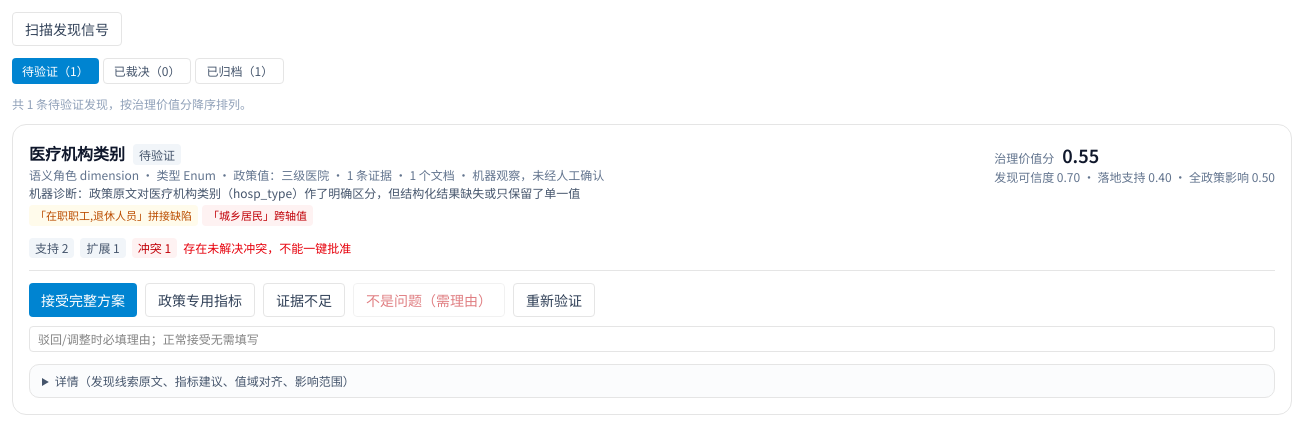
Test: PdscDecisionBoard 一屏多卡决策列表 › 状态标签页：默认只显示待验证，已归档需切换后可见
Step 1. Click the tab "已归档（1）" → (240, 71), box left=195, top=58, right=284, bottom=84
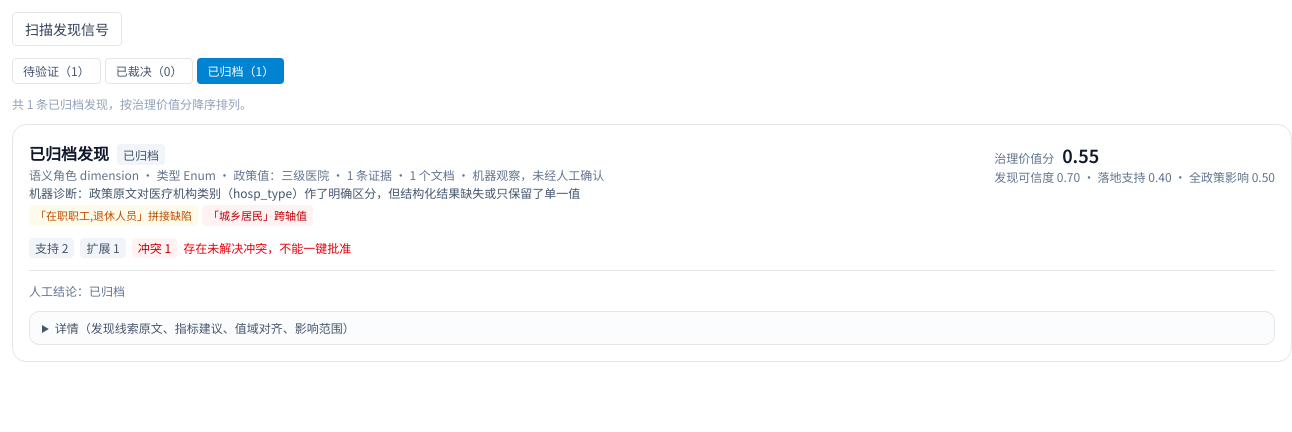
Now the element named "决策卡 已归档发现" is shown, box left=12, top=124, right=1291, bottom=362
